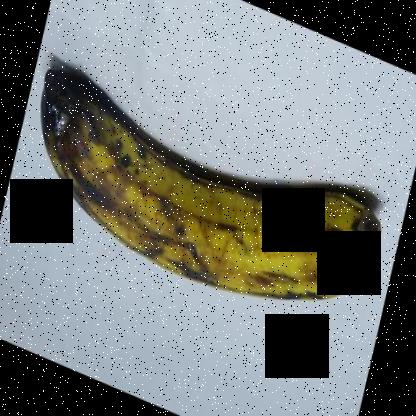overripe: (26, 44, 382, 317)
rotten: (30, 55, 117, 181)
